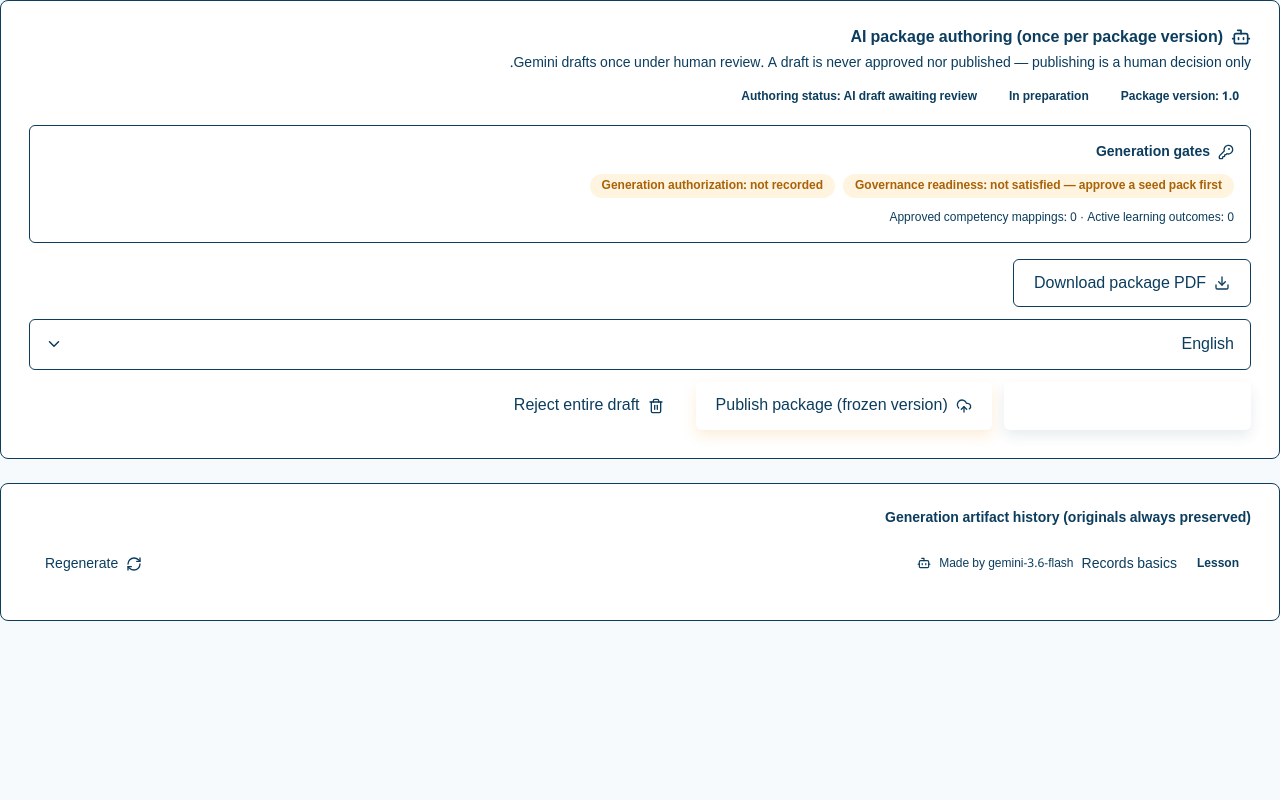
Test: the professional package, component by component › says the instant regenerate found the AI service busy
Click the button "Regenerate". click: (94, 564)
box: [29,544,158,584]
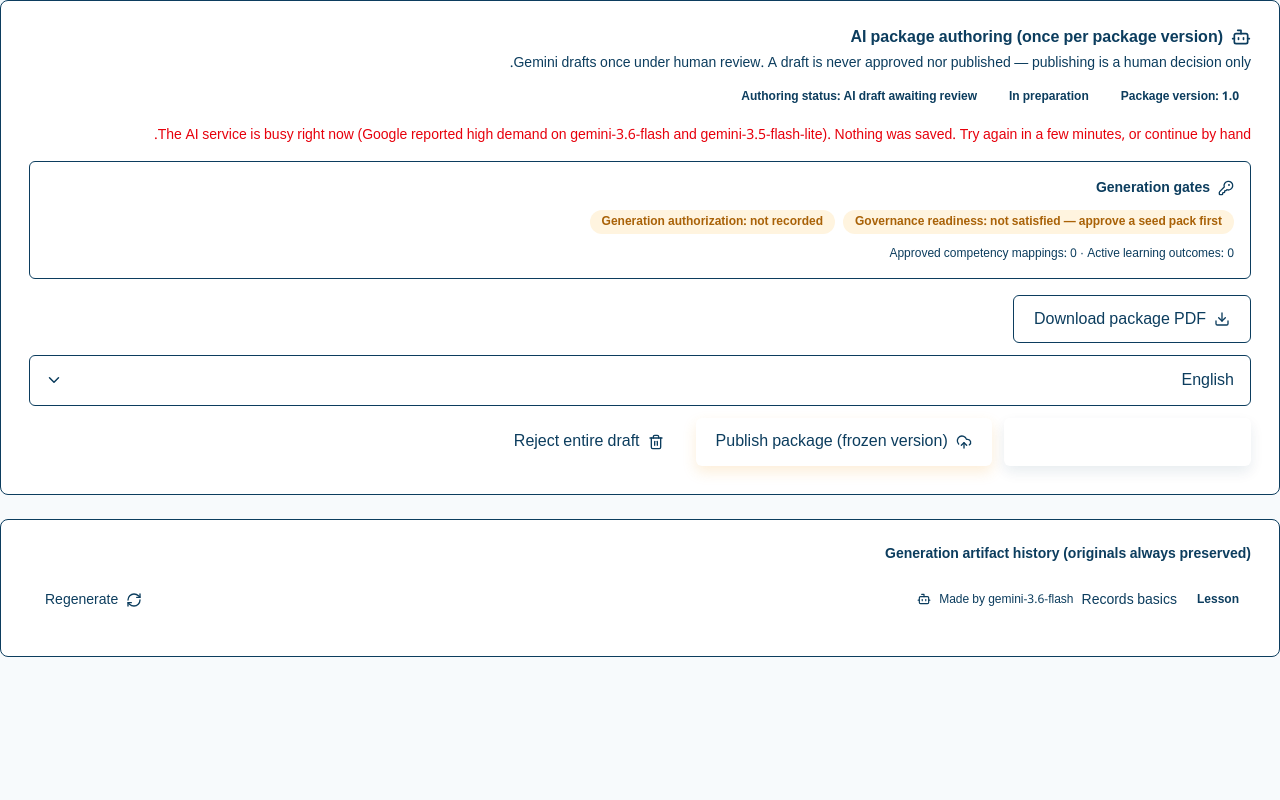
Result: the text "The AI service is busy right now (Google reported high demand on gemini-3.6-flash and gemini-3.5-flash-lite). Nothi" is shown at [154,120,1251,149]
